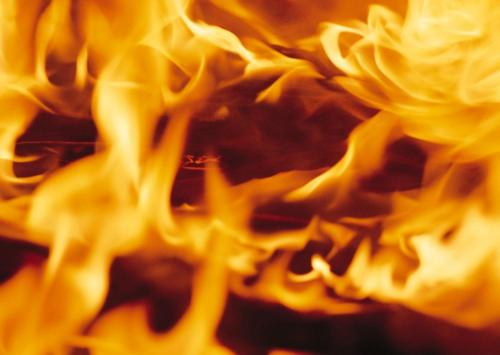fire: (1, 3, 500, 349)
